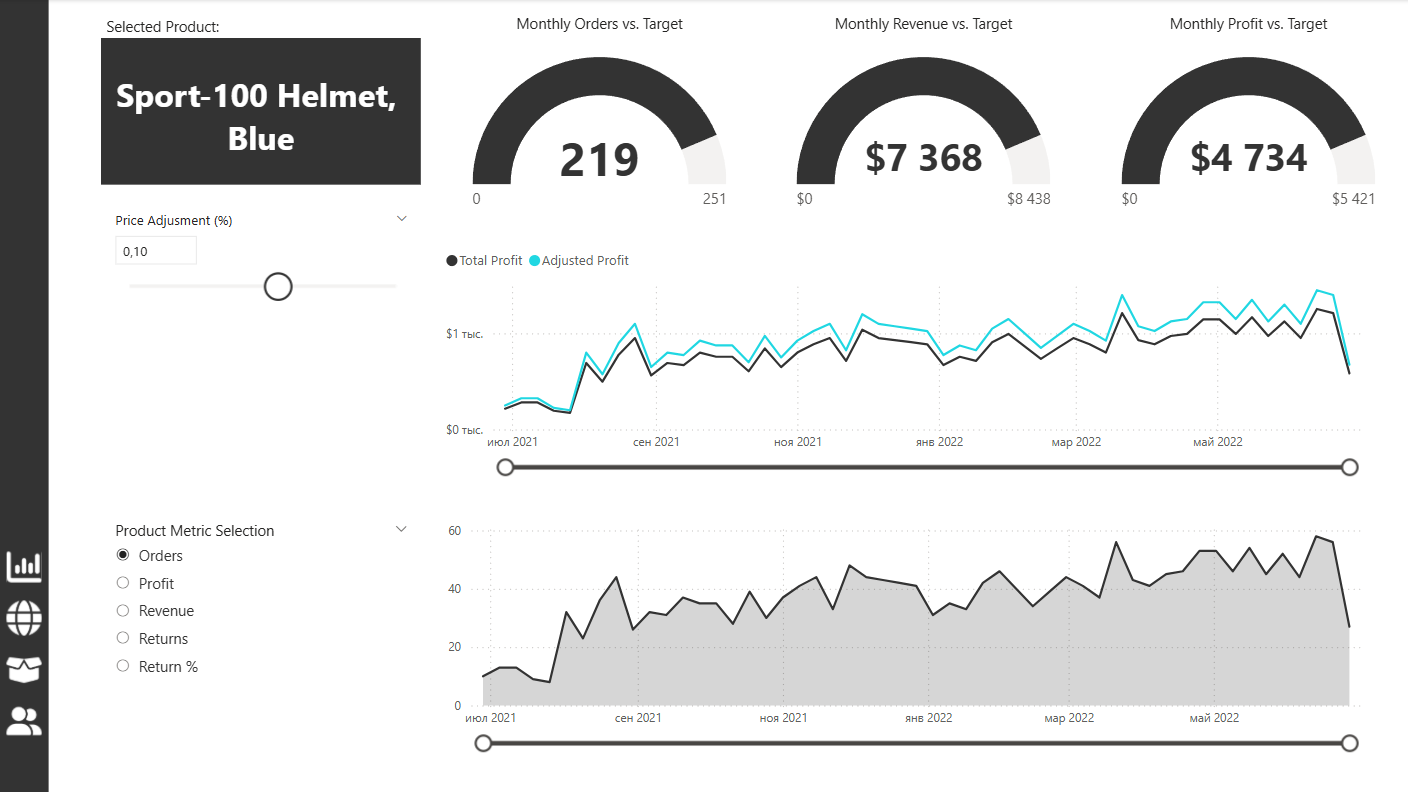

The page's visual inventory and layout, read from the dashboard file:
{"tool":"powerbi","page":{"name":"Product Detail","canvas":[1280,720],"ordinal":2},"visuals":[{"type":"shape","box":[0,0,45,720],"z":0},{"type":"actionButton","box":[2.4,541.4,54.1,40],"z":0,"group":"g1"},{"type":"gauge","title":"Monthly Orders vs. Target","fields":{"Y":["Measure Table.Total Orders"],"MaxValue":["Measure Table.Previous Month Target"]},"box":[424,13.9,240.4,203.3],"z":1000},{"type":"actionButton","box":[2.4,587.9,54.1,40],"z":1000,"group":"g1"},{"type":"gauge","title":"Monthly Revenue vs. Target","fields":{"Y":["Measure Table.Total Revenue"],"MaxValue":["Measure Table.Revenue Target"]},"box":[718.4,13.9,240.4,203.3],"z":2000},{"type":"actionButton","box":[2.4,494.8,54.1,40],"z":2000,"group":"g1"},{"type":"gauge","title":"Monthly Profit vs. Target","fields":{"Y":["Measure Table.Total Profit"],"MaxValue":["Measure Table.Profit Target"]},"box":[1012.8,13.9,240.4,203.3],"z":3000},{"type":"actionButton","box":[2.4,634.5,54.1,40],"z":3000,"group":"g1"},{"type":"areaChart","title":"Profit Trending","fields":{"Y":["Measure Table.Total Profit","Measure Table.Adjusted Profit"],"Category":["Calendar Lookup.Date Hierarchy.Start of Year","Calendar Lookup.Date Hierarchy.Start of Month","Calendar Lookup.Date Hierarchy.Start of Week","Calendar Lookup.Date Hierarchy.Date"]},"box":[400.1,217.7,852.7,217.7],"z":4000},{"type":"areaChart","title":"Returns Trending","fields":{"Y":["Measure Table.Total Orders"],"Category":["Calendar Lookup.Date Hierarchy.Start of Year","Calendar Lookup.Date Hierarchy.Start of Month","Calendar Lookup.Date Hierarchy.Start of Week","Calendar Lookup.Date Hierarchy.Date"]},"box":[400.1,467.7,852.7,217.7],"z":5000},{"type":"card","fields":{"Values":["Min(Product Lookup.ProductName)"]},"box":[92.2,35.6,290,133.3],"z":6000},{"type":"textbox","box":[92.2,11.1,298.9,36.7],"z":7000},{"type":"group","id":"g1","title":"Nav. Buttons","box":[2.4,494.8,54.1,179.7],"z":8000},{"type":"slicer","fields":{"Values":["Price Adjusment (%).Price Adjusment (%)"]},"box":[92.7,186.5,290.3,129],"z":9000},{"type":"slicer","fields":{"Values":["Product Metric Selection.Product Metric Selection"]},"box":[92.7,467.7,290.3,217.7],"z":10000}]}

Visuals, with their boxes on the page's 1280x720 design canvas (x1, y1, x2, y2). These are canvas units, not pixel positions in the 1408x792 screenshot, which may show the page scaled, cropped or inside an application window:
shape: [left=0, top=0, right=45, bottom=720]
actionButton: [left=2, top=541, right=56, bottom=581]
"Monthly Orders vs. Target" gauge: [left=424, top=14, right=664, bottom=217]
actionButton: [left=2, top=588, right=56, bottom=628]
"Monthly Revenue vs. Target" gauge: [left=718, top=14, right=959, bottom=217]
actionButton: [left=2, top=495, right=56, bottom=535]
"Monthly Profit vs. Target" gauge: [left=1013, top=14, right=1253, bottom=217]
actionButton: [left=2, top=634, right=56, bottom=674]
"Profit Trending" areaChart: [left=400, top=218, right=1253, bottom=435]
"Returns Trending" areaChart: [left=400, top=468, right=1253, bottom=685]
card - Min(Product Lookup.ProductName): [left=92, top=36, right=382, bottom=169]
textbox: [left=92, top=11, right=391, bottom=48]
"Nav. Buttons" group: [left=2, top=495, right=56, bottom=674]
slicer - Price Adjusment (%).Price Adjusment (%): [left=93, top=186, right=383, bottom=316]
slicer - Product Metric Selection.Product Metric Selection: [left=93, top=468, right=383, bottom=685]
